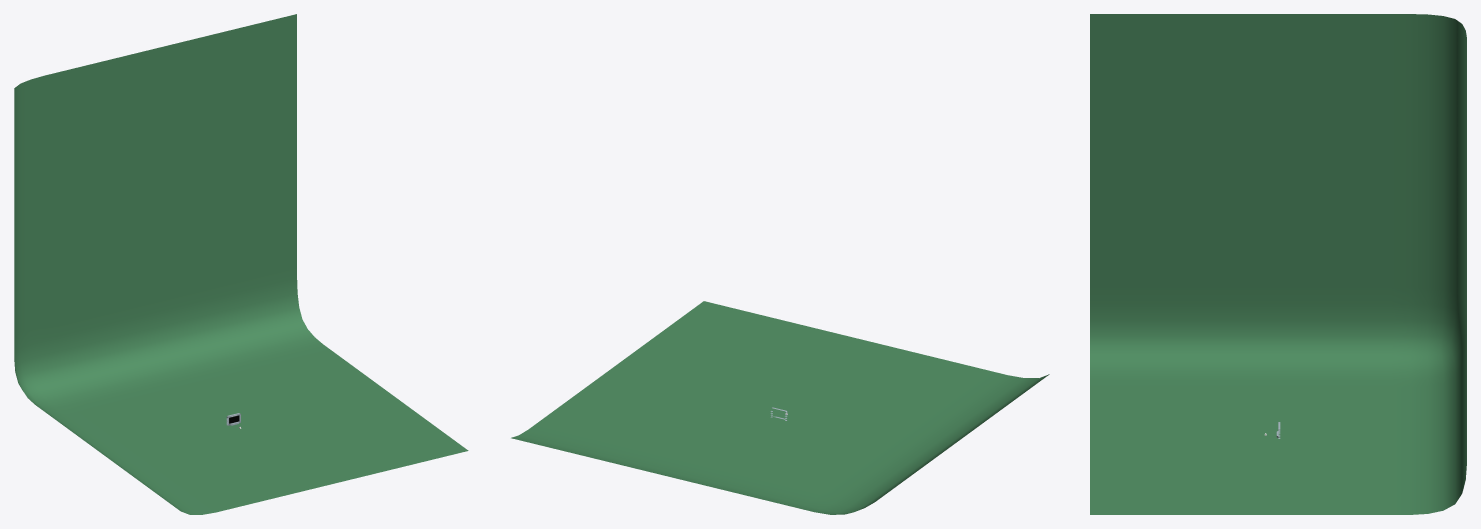
Rendered from web.glb.
3 renders of one model, left to right at view 1: azimuth 30°, elevation 25°; view 2: azimuth 150°, elevation 25°; view 3: azimuth 270°, elevation 25°, orthographic. The views are drawn at different scales.
Parts seen in each view (by area): view 1: piso; view 2: piso; view 3: piso.
Boxes of the visible parts, x1,y1,x2,y2 form: piso: (14, 14, 468, 514); piso: (511, 301, 1049, 514); piso: (1090, 14, 1466, 514).
Size of the model in its own units: 4 by 4 by 4.
3 materials, 1 textured.
